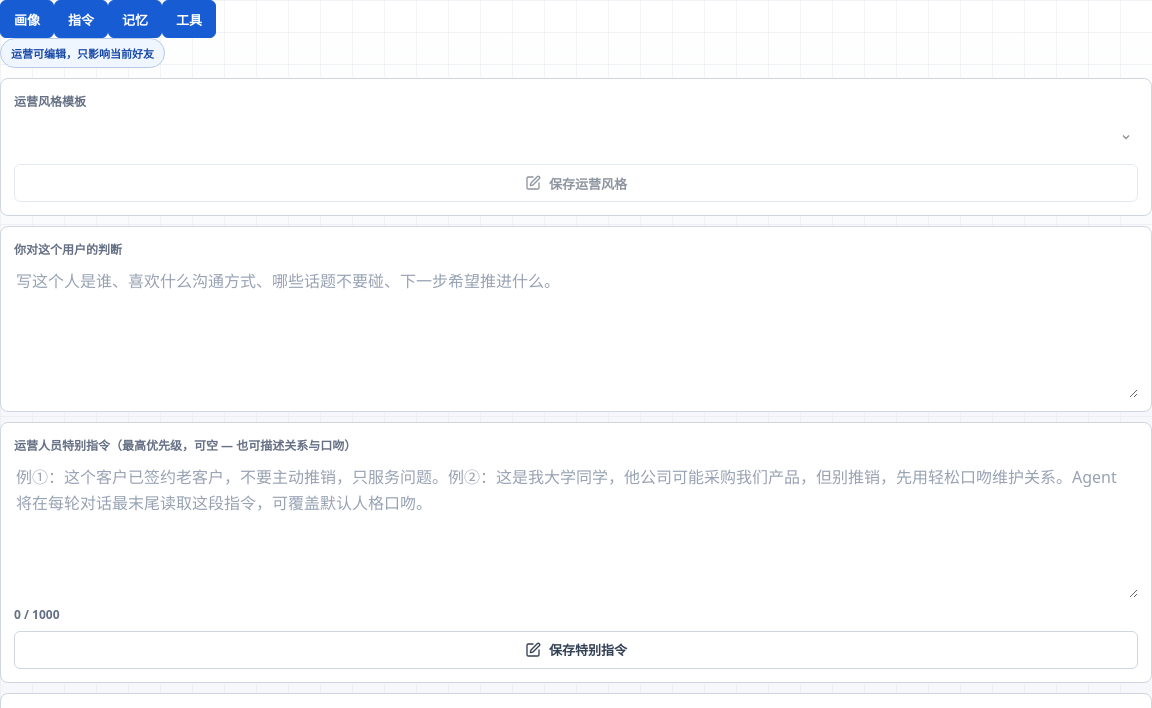
Test: ConfigureView 4-tab › 点击工具 tab 显示长期记忆 + 影子验证
This screenshot has width=1152, height=708.
Click the tab "工具".
click(189, 19)  # box [162,0,216,38]
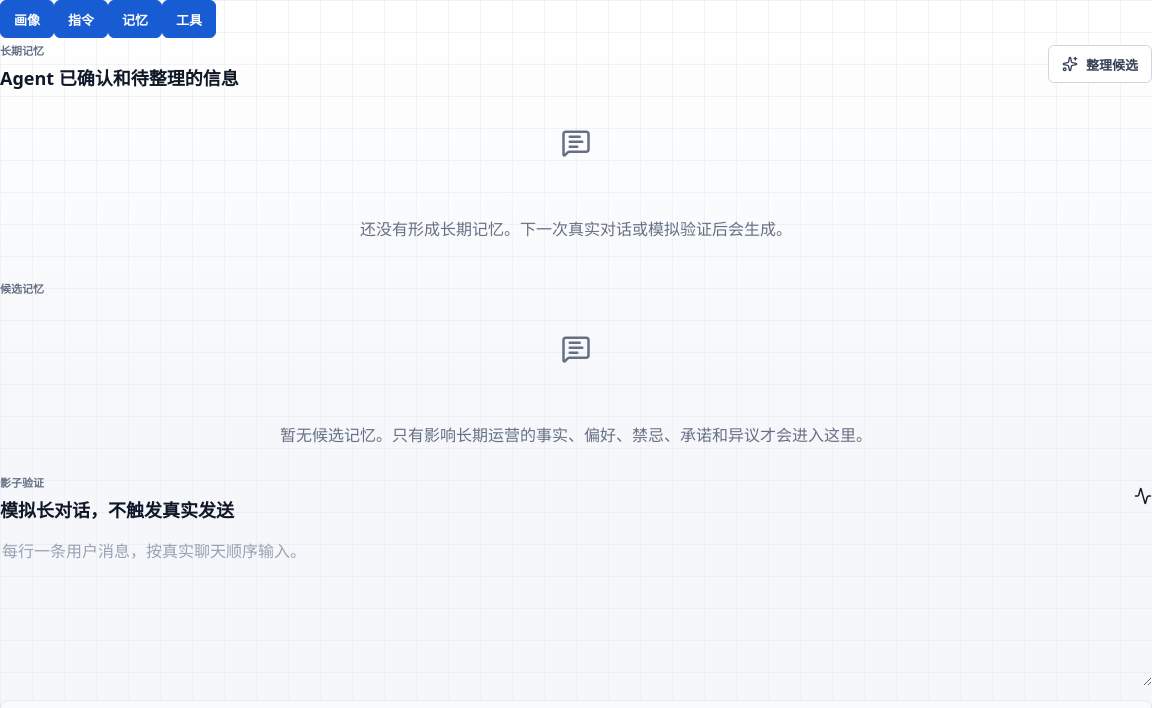
Expected: the text "影子验证" is shown, [0,475,44,490]
Expected: the heading "Agent 已确认和待整理的信息" is shown, [0,64,239,90]
